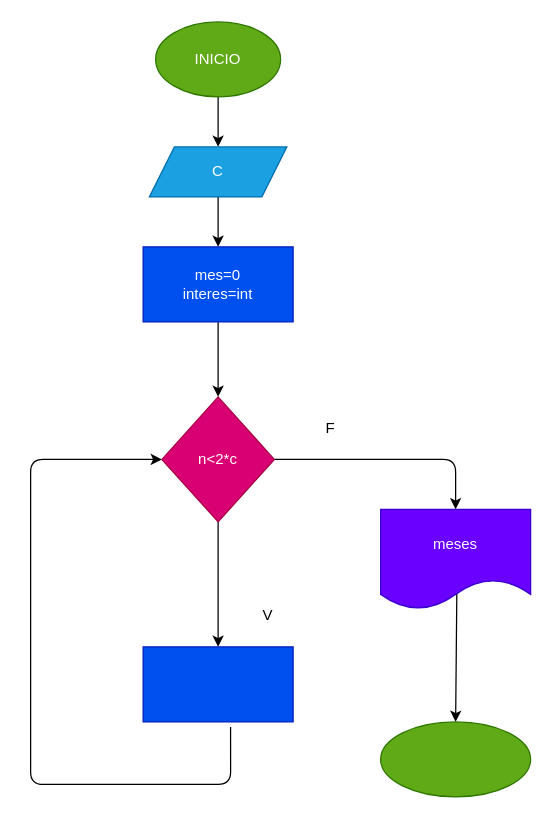
This 553x819 diagram has some shape labels left out. The centre of each missing label's shape, as x and y in pixels:
"FIN" goes at [455,759].
"interes= (c*5/100)" goes at [217,684].
